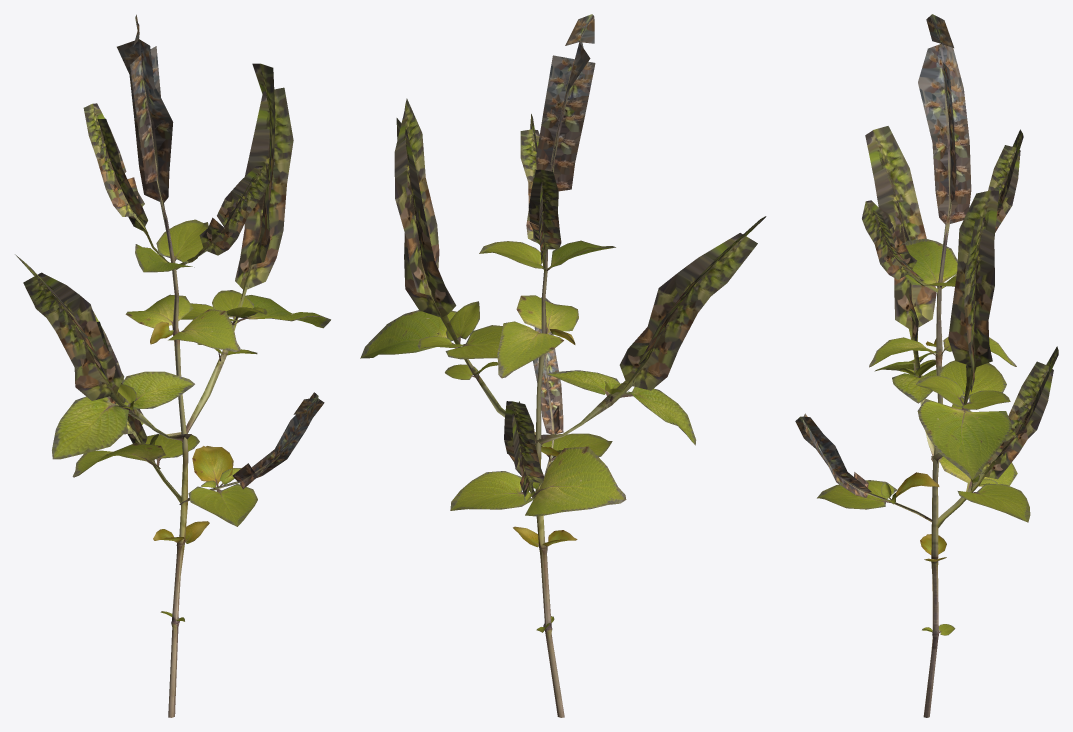
The model's file is shrub_03_v2.glb.
3 views of the same model, side by side, from view 1: azimuth 30°, elevation 25°; view 2: azimuth 150°, elevation 25°; view 3: azimuth 270°, elevation 25° (orthographic). The views are drawn at different scales.
Visible parts, largest first — view 1: lod0; view 2: lod0; view 3: lod0.
Part boxes in pixels (x1,y1,x2,y2): lod0: (15,14,330,717); lod0: (360,14,766,717); lod0: (795,14,1058,717).
Size of what is drawn, in the model's own units: 0.1843 by 0.3525 by 0.1226.
1 material, 1 textured.
